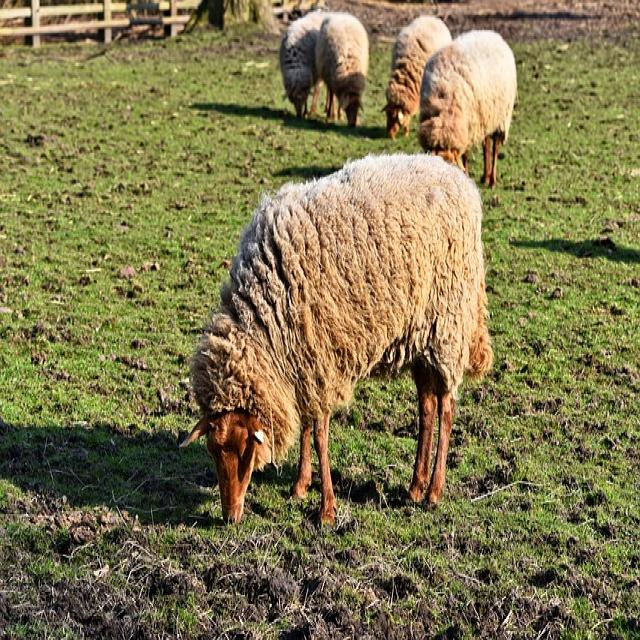sheep: (178, 148, 494, 528), (418, 27, 517, 189), (381, 14, 452, 140), (314, 9, 369, 127), (278, 7, 330, 120)
